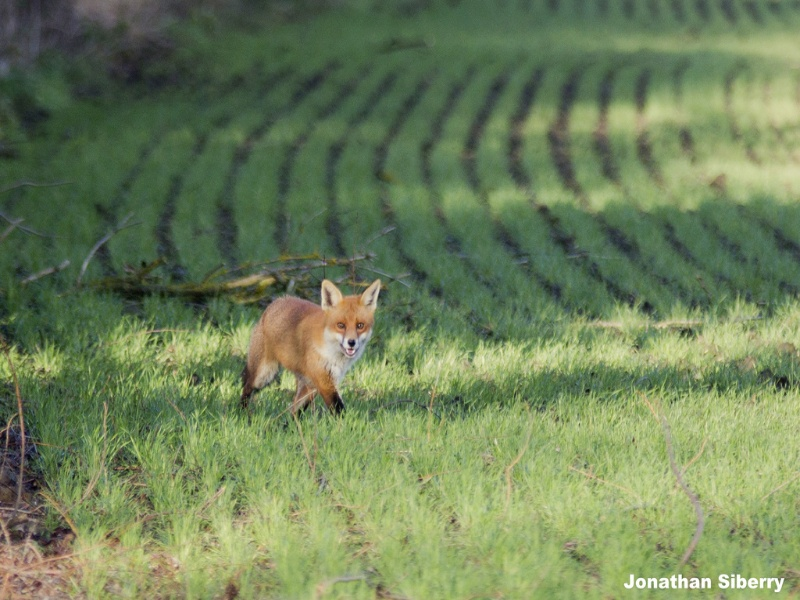fox: (242, 277, 386, 419)
